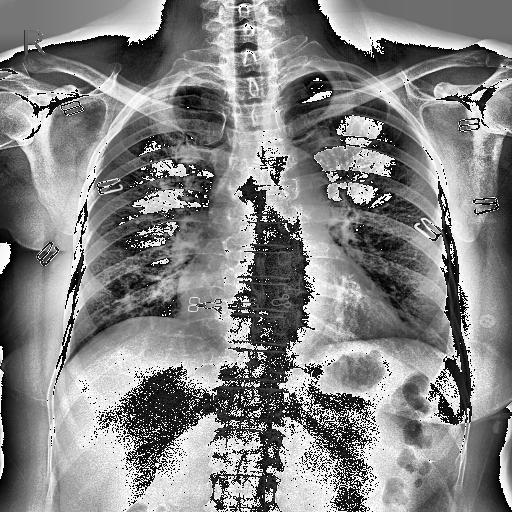0- Aortic enlargement: (249, 140, 330, 218), (257, 145, 329, 203), (267, 145, 329, 210)
11- Pleural thickening: (152, 72, 222, 100)
3- Cardiomegaly: (176, 273, 406, 357), (178, 272, 402, 335)
